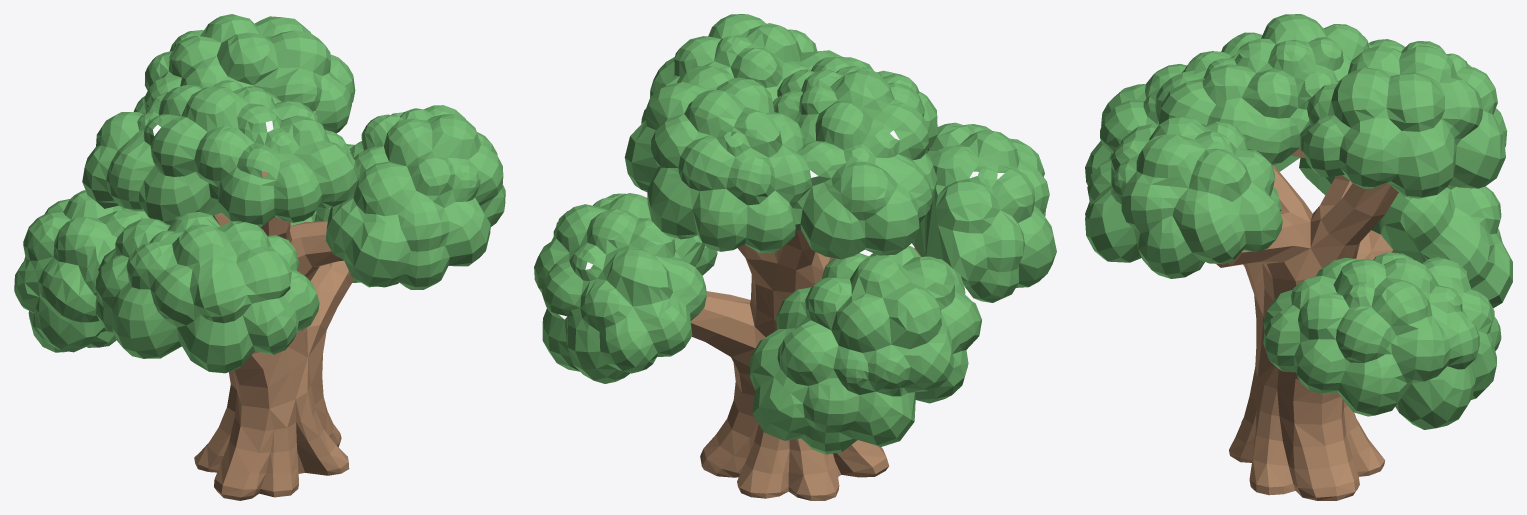
The model's file is nat_oak.glb.
3 renders of one model, left to right at view 1: azimuth 30°, elevation 25°; view 2: azimuth 150°, elevation 25°; view 3: azimuth 270°, elevation 25°, orthographic. The views are drawn at different scales.
Parts seen in each view (by area): view 1: geometry_0; view 2: geometry_0; view 3: geometry_0.
Part boxes in pixels (bbox=[...]): geometry_0: bbox=[14, 14, 505, 500]; geometry_0: bbox=[534, 14, 1056, 500]; geometry_0: bbox=[1085, 14, 1512, 500].
Bounding box in the file's own units: 0.2119 × 0.1992 × 0.1816.
